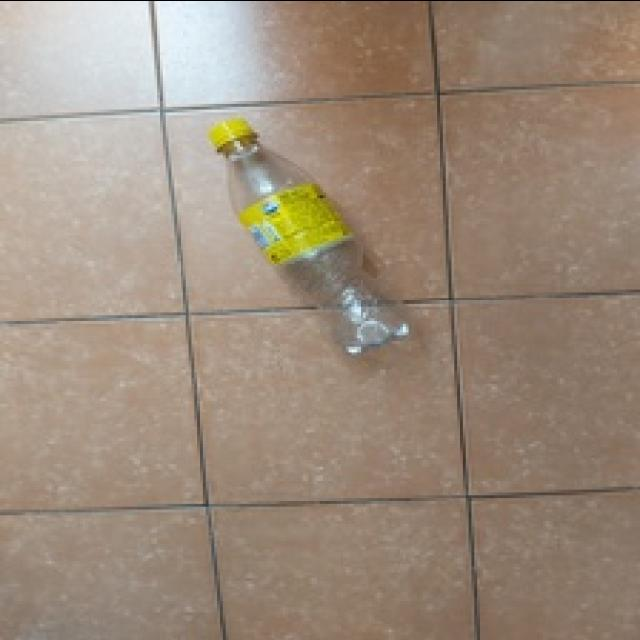寶特瓶: (210, 87, 412, 370)
